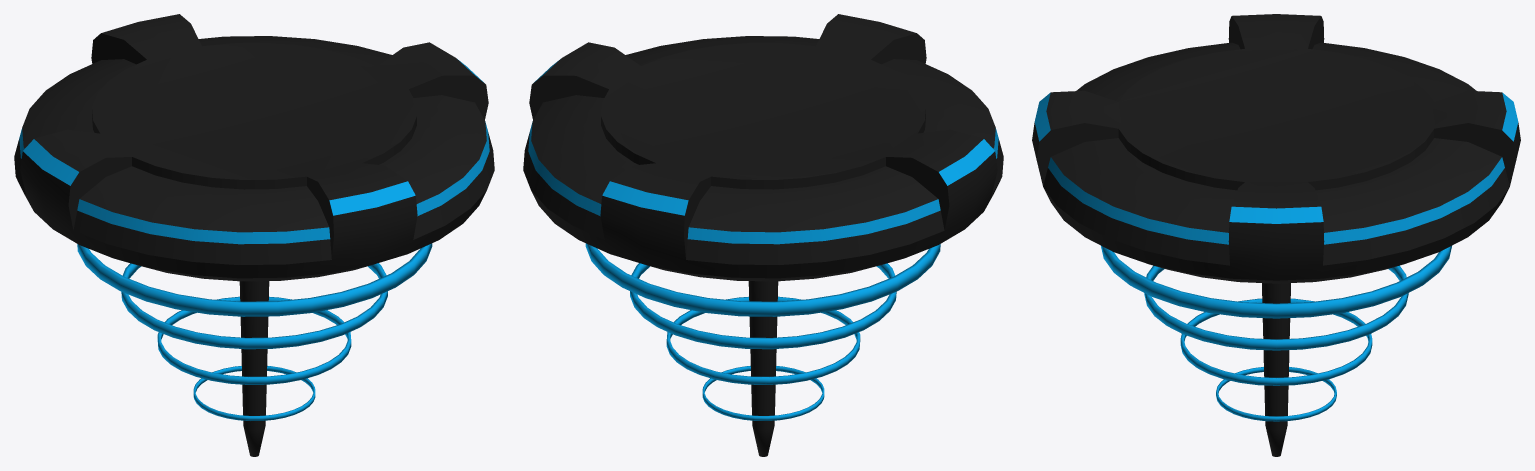
The model's file is Hologram_Projection_Pad.fbx.
3 views of the same model, side by side, from view 1: azimuth 30°, elevation 25°; view 2: azimuth 150°, elevation 25°; view 3: azimuth 270°, elevation 25° (orthographic).
Visible parts, largest first — view 1: Torus.002, Circle.008, Circle.009, Torus.003_Torus.004, Circle.010, Circle.011; view 2: Torus.002, Circle.008, Circle.009, Torus.003_Torus.004, Circle.010, Circle.011; view 3: Torus.002, Circle.008, Circle.009, Torus.003_Torus.004, Circle.010, Circle.011.
Part boxes in pixels (x1,y1,x2,y2): Torus.002: (14,14,494,281); Circle.008: (77,243,432,316); Circle.009: (121,263,387,349); Torus.003_Torus.004: (239,281,269,456); Circle.010: (157,296,351,384); Circle.011: (193,366,315,420); Torus.002: (523,14,1003,281); Circle.008: (585,243,940,316); Circle.009: (630,263,896,349); Torus.003_Torus.004: (748,281,778,456); Circle.010: (666,296,860,384); Circle.011: (702,366,824,420); Torus.002: (1032,14,1520,283); Circle.008: (1100,245,1452,318); Circle.009: (1144,265,1408,350); Torus.003_Torus.004: (1262,283,1290,456); Circle.010: (1180,298,1372,385); Circle.011: (1216,367,1336,421).
Bounding box in the file's own units: 438 × 344 × 438.
